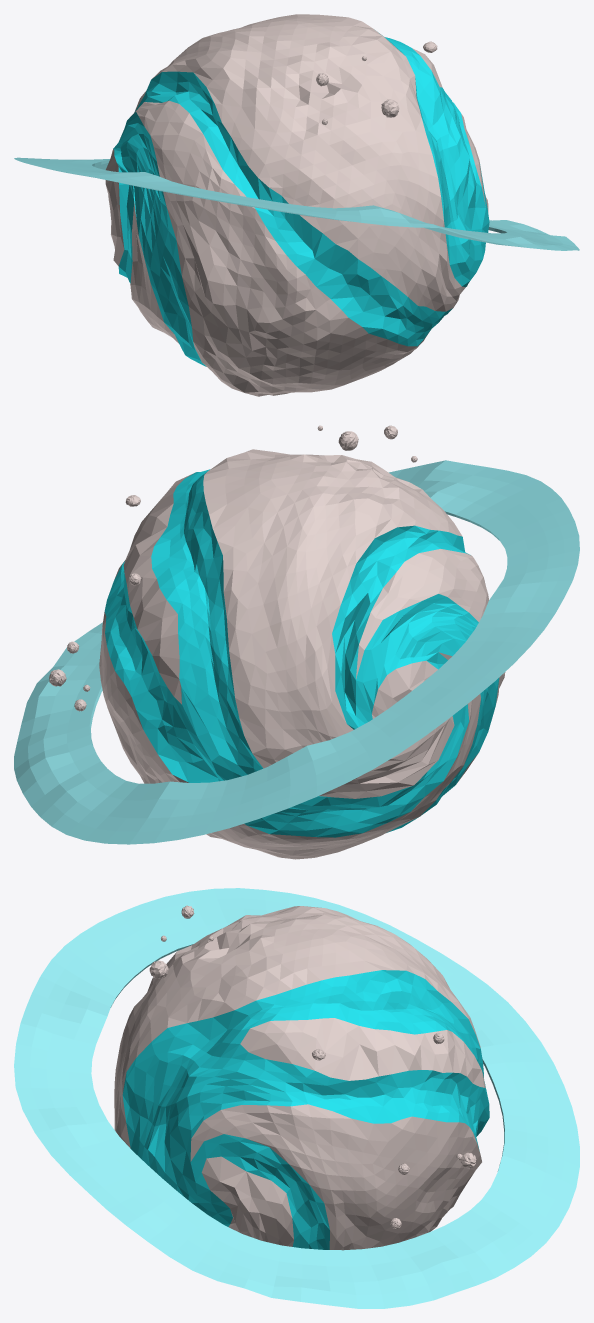
File: PlanetBigFlatRing-transformed.glb
3 renders of one model, top to bottom at view 1: azimuth 30°, elevation 25°; view 2: azimuth 150°, elevation 25°; view 3: azimuth 270°, elevation 25°, orthographic. The views are drawn at different scales.
Visible parts, largest first — view 1: Planet_40; view 2: Planet_40; view 3: Planet_40.
Boxes of the visible parts, left/top/right/bottom form: Planet_40: left=14, top=14, right=579, bottom=396; Planet_40: left=14, top=425, right=579, bottom=859; Planet_40: left=14, top=888, right=579, bottom=1308.
Bounding box in the file's own units: 29.38 × 20.83 × 30.16.
1 material, 1 textured.
